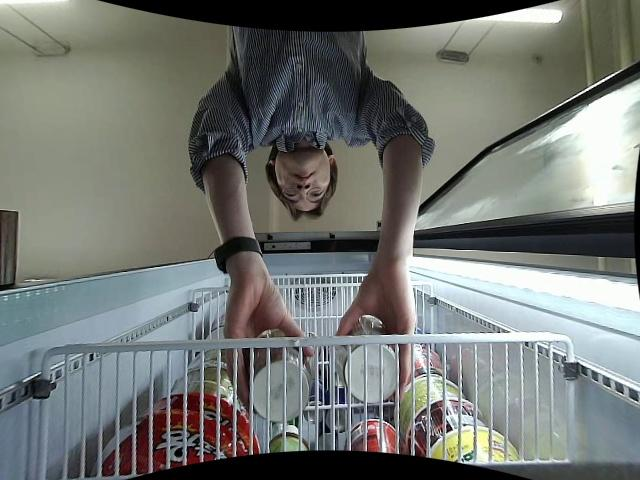00_hand: (222, 285, 315, 409), (335, 273, 418, 389)
04_chapagetti_S: (241, 329, 311, 421), (332, 323, 399, 401)
